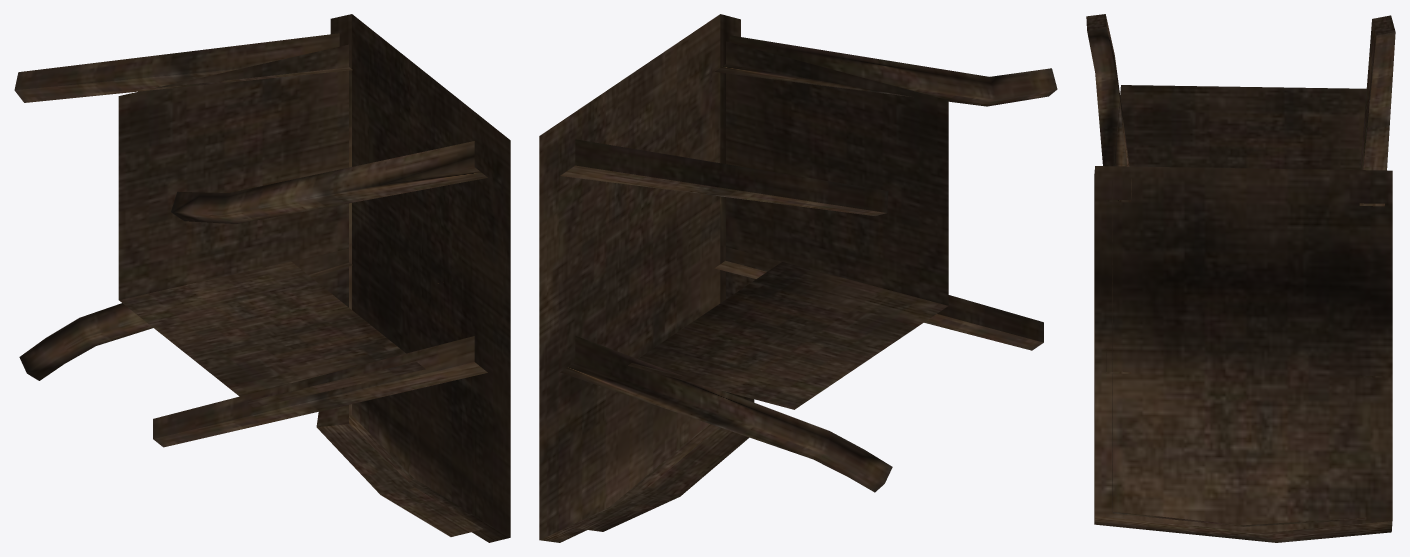
Rendered from furniture_desk_d_d.glb.
3 renders of one model, left to right at view 1: azimuth 30°, elevation 25°; view 2: azimuth 150°, elevation 25°; view 3: azimuth 270°, elevation 25°, orthographic. The views are drawn at different scales.
Size of the model in its own units: 37.28 by 45.35 by 32.93.
Materials: 1 (1 with a texture image).
